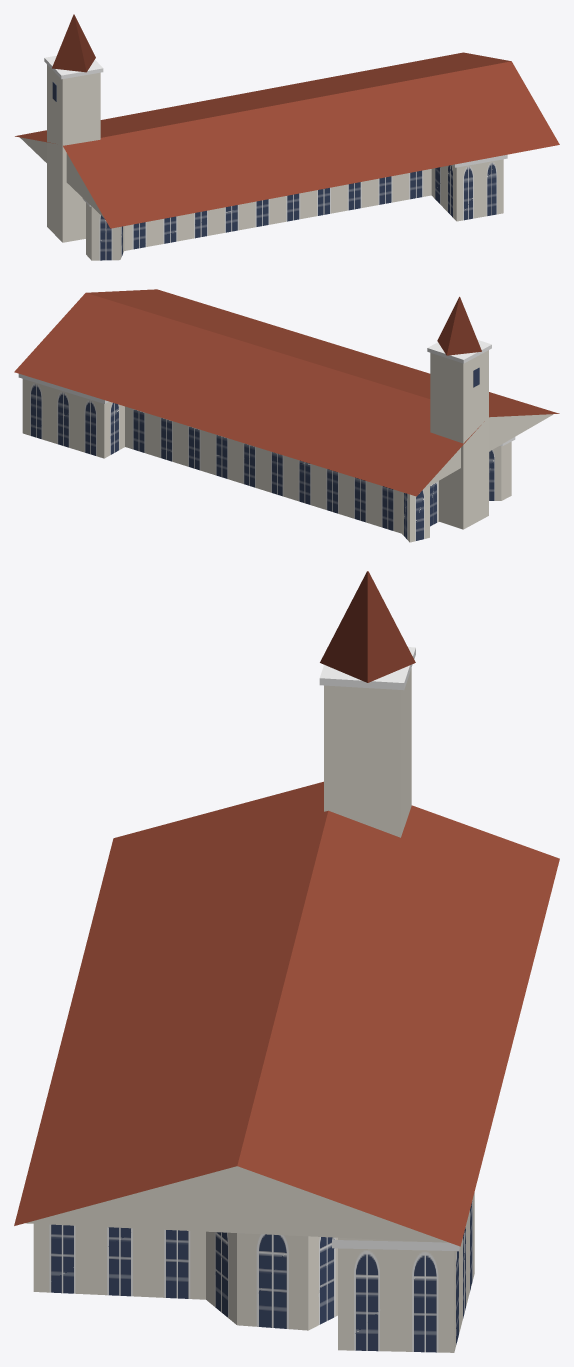
File: stfranciscus.glb
3 renders of one model, top to bottom at view 1: azimuth 30°, elevation 25°; view 2: azimuth 150°, elevation 25°; view 3: azimuth 270°, elevation 25°, orthographic. The views are drawn at different scales.
Parts seen in each view (by area): view 1: stfranciscus_lod0; view 2: stfranciscus_lod0; view 3: stfranciscus_lod0.
Part boxes in pixels (x1,y1,x2,y2): stfranciscus_lod0: (15,14,559,260); stfranciscus_lod0: (14,289,559,542); stfranciscus_lod0: (14,571,559,1352).
Size of what is drawn, in the model's own units: 62.27 by 29 by 35.19.
Materials: 6 (1 with a texture image).
